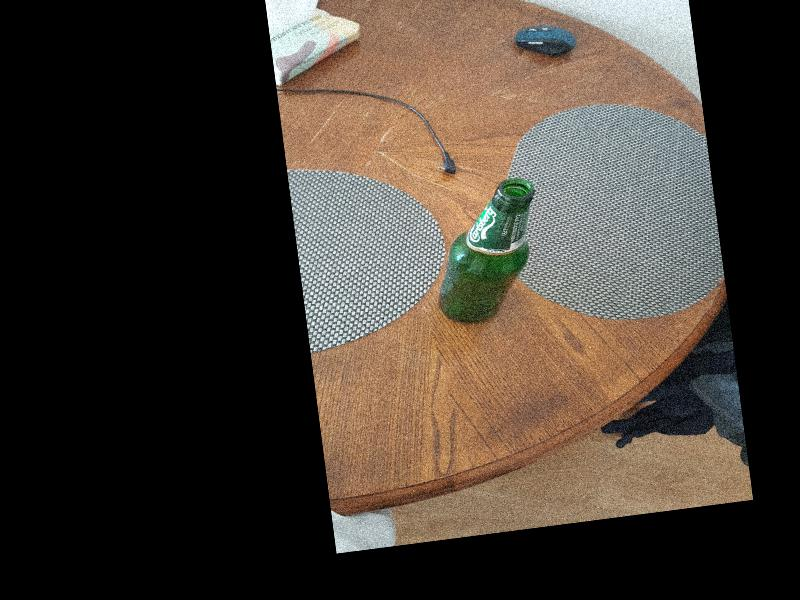Beer: (418, 176, 551, 330)
